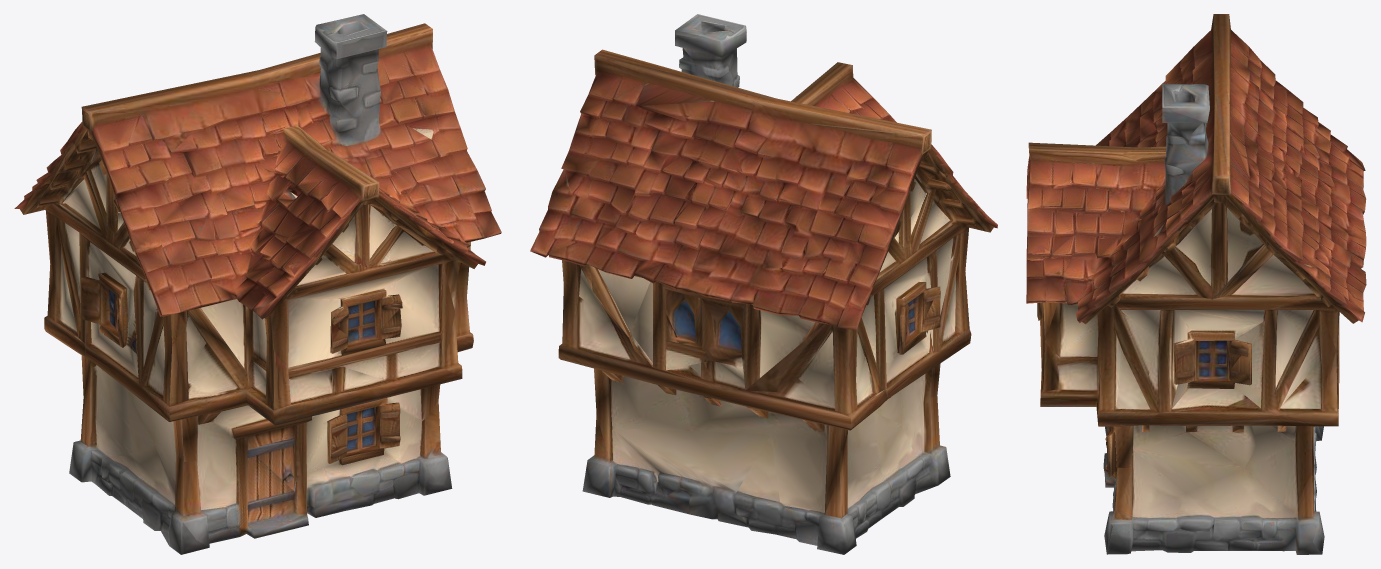
File: house_a.glb
The picture shows the model from 3 angles, left to right: view 1: azimuth 30°, elevation 25°; view 2: azimuth 150°, elevation 25°; view 3: azimuth 270°, elevation 25°; orthographic projection. The views are drawn at different scales.
Parts seen in each view (by area): view 1: house_a; view 2: house_a; view 3: house_a.
Part boxes in pixels (x1,y1,x2,y2): house_a: (14, 14, 501, 554); house_a: (530, 14, 997, 554); house_a: (1026, 14, 1366, 554).
Size of the model in its own units: 6.09 by 7.59 by 5.41.
1 material, 1 textured.
